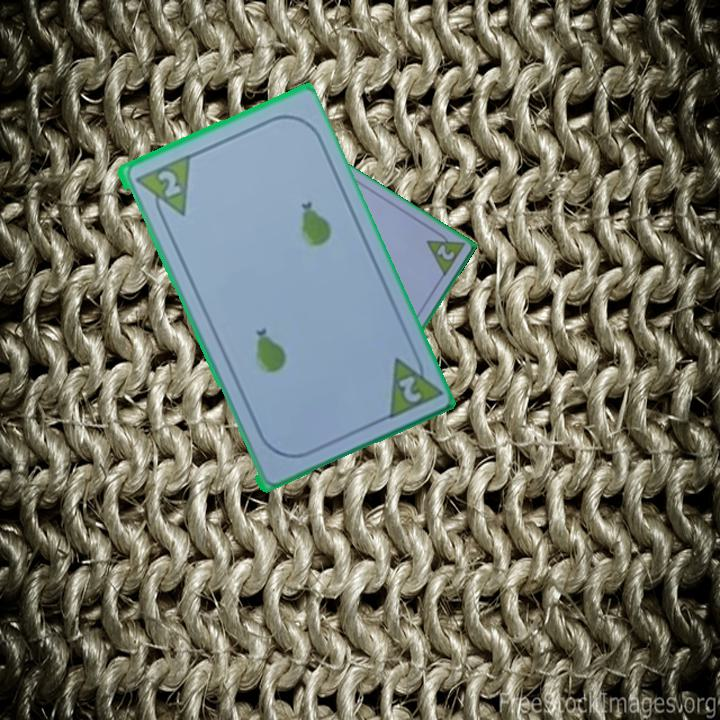2p: (380, 344, 442, 423), (153, 166, 184, 200), (432, 241, 457, 263)
